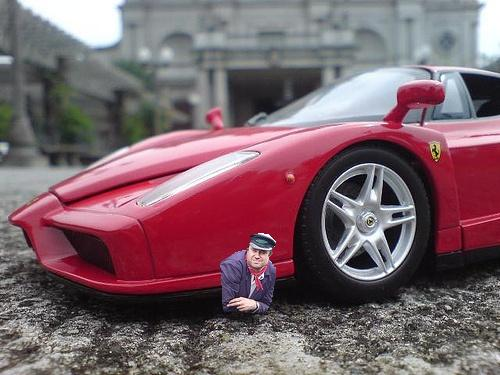tampered: (221, 234, 276, 313)
